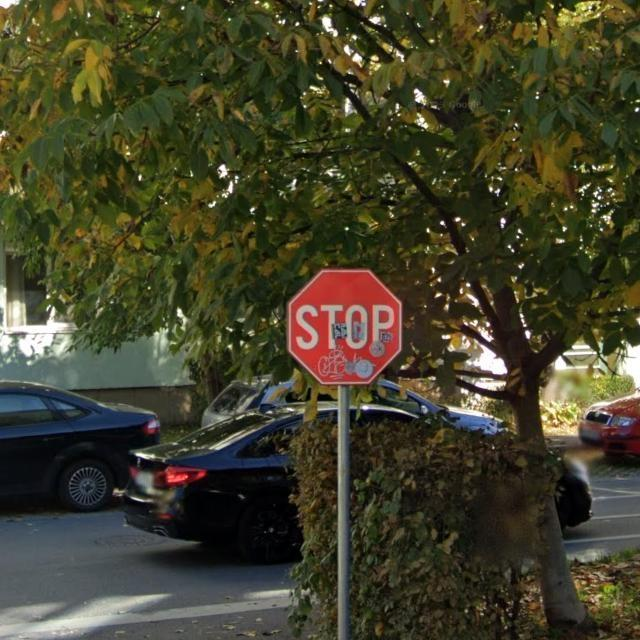prio_stop: (285, 267, 403, 383)
